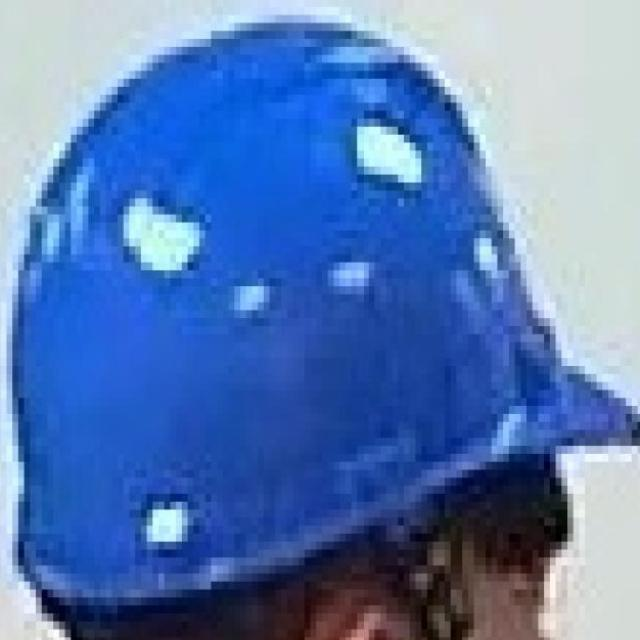helmet: (7, 14, 640, 614)
